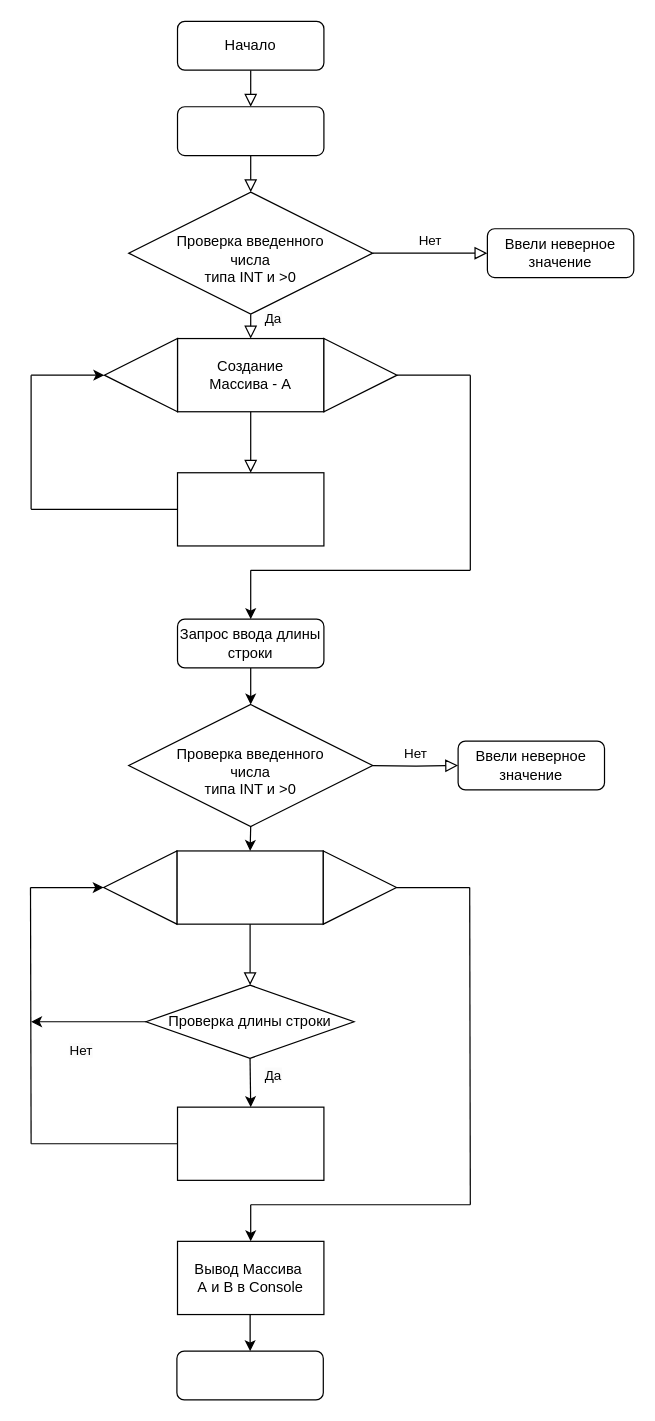
Image size: 655x1421. Some labels were removed from this diagram. The centre of each missing label's shape, as x and y in pixels:
"Ввод длины массива" goes at (250,131).
"Конец" goes at (249,1375).
"Наполнение значениями - запрос ввода значения тип STRING" goes at (250,509).
"Наполнение значениями - типа STRING" goes at (250,1143).
"Создание Массива - В" goes at (249,887).
